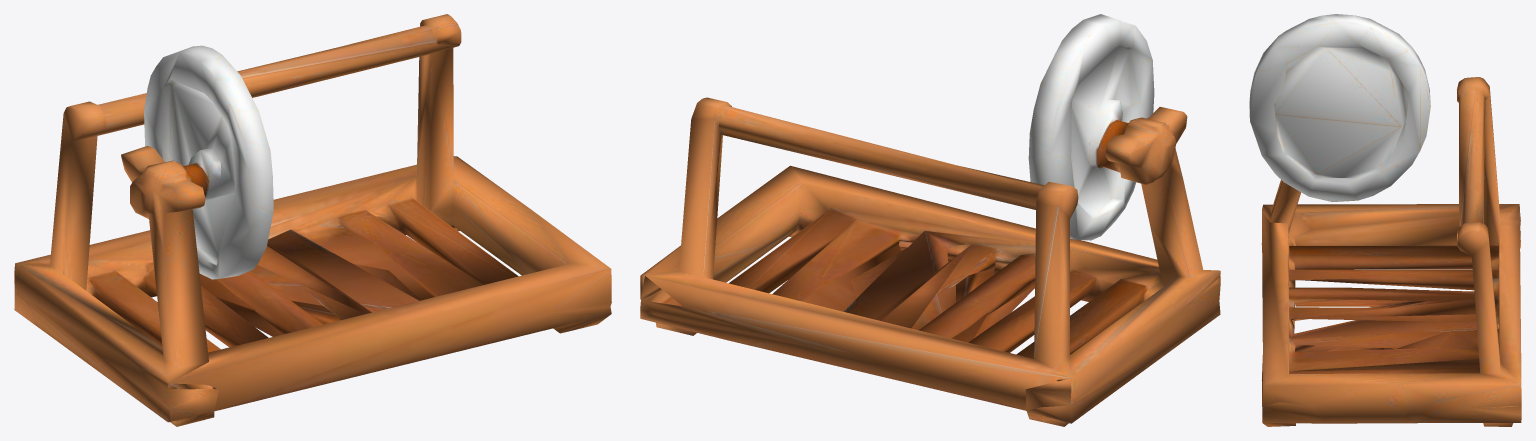
The model's file is dish-tray.glb.
3 renders of one model, left to right at view 1: azimuth 30°, elevation 25°; view 2: azimuth 150°, elevation 25°; view 3: azimuth 270°, elevation 25°, orthographic. The views are drawn at different scales.
Bounding box in the file's own units: 1.91 × 1.32 × 1.21.
Materials: 1 (1 with a texture image).
